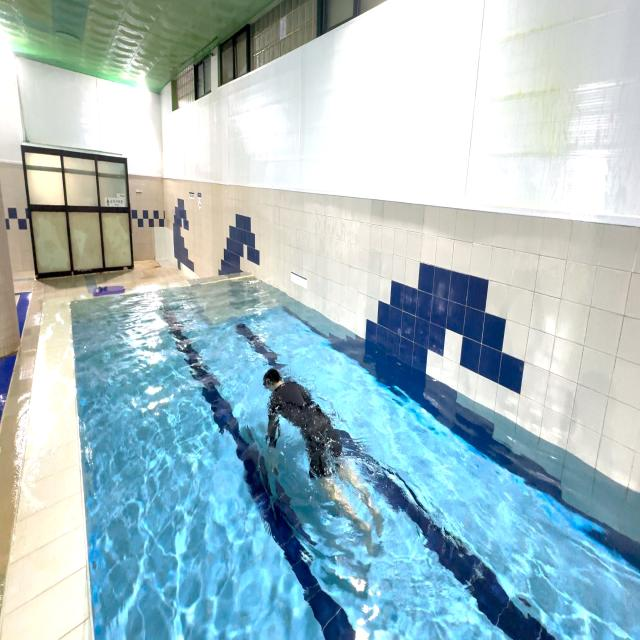Drowning: (249, 350, 389, 568)
